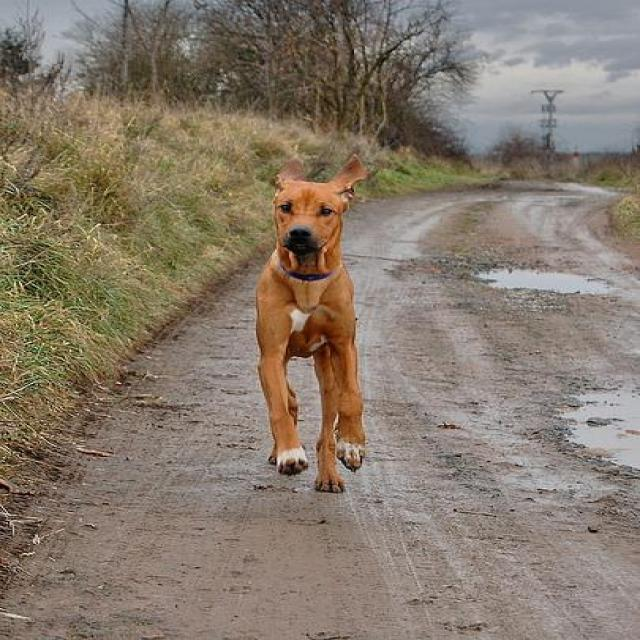rhodesian_ridgeback: (245, 151, 371, 499)
